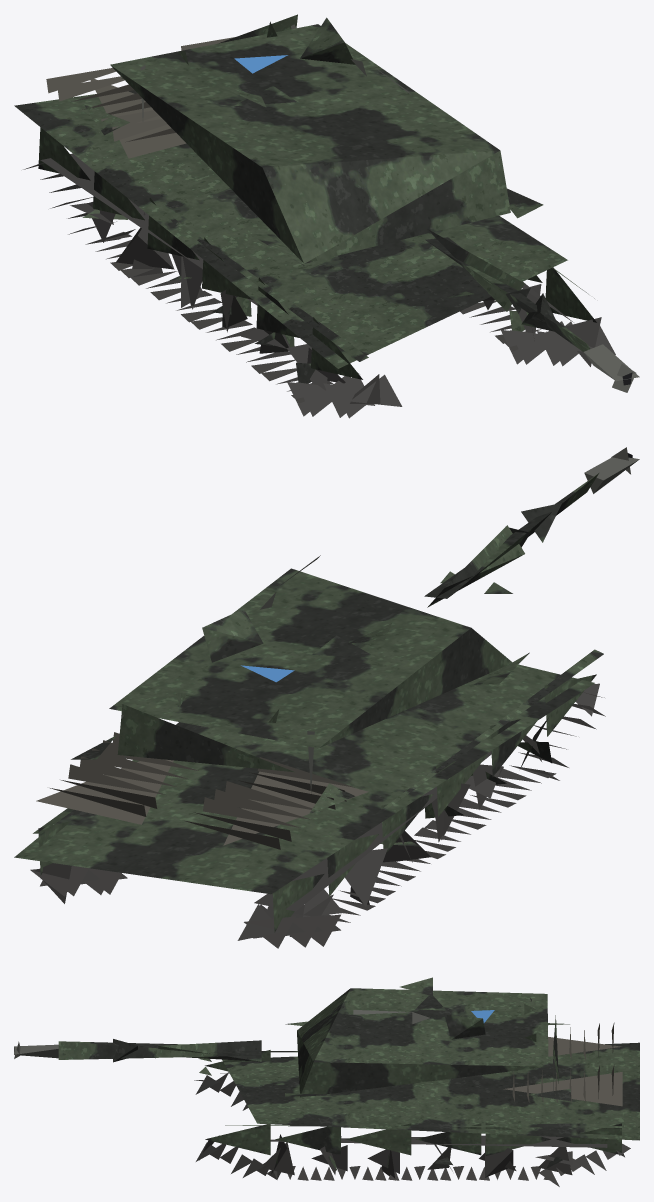
Rendered from mbt_e4_uk_challenger2_LOD2.glb.
3 views of the same model, one above another, from view 1: azimuth 30°, elevation 25°; view 2: azimuth 150°, elevation 25°; view 3: azimuth 270°, elevation 25° (orthographic). The views are drawn at different scales.
Visible parts, largest first — view 1: mbt_e4_uk_challenger2_LOD2_body, mbt_e4_uk_challenger2_LOD2_track, mbt_e4_uk_challenger2_LOD2_deck, mbt_e4_uk_challenger2_LOD2_gun; view 2: mbt_e4_uk_challenger2_LOD2_body, mbt_e4_uk_challenger2_LOD2_track, mbt_e4_uk_challenger2_LOD2_deck, mbt_e4_uk_challenger2_LOD2_gun; view 3: mbt_e4_uk_challenger2_LOD2_body, mbt_e4_uk_challenger2_LOD2_track, mbt_e4_uk_challenger2_LOD2_deck, mbt_e4_uk_challenger2_LOD2_gun.
Boxes of the visible parts, box(x1,y1,x2,y2) form: mbt_e4_uk_challenger2_LOD2_body: box(14, 14, 596, 383); mbt_e4_uk_challenger2_LOD2_track: box(23, 153, 615, 418); mbt_e4_uk_challenger2_LOD2_deck: box(46, 37, 235, 158); mbt_e4_uk_challenger2_LOD2_gun: box(140, 24, 639, 392); mbt_e4_uk_challenger2_LOD2_body: box(14, 473, 603, 932); mbt_e4_uk_challenger2_LOD2_track: box(30, 683, 605, 948); mbt_e4_uk_challenger2_LOD2_deck: box(36, 732, 368, 849); mbt_e4_uk_challenger2_LOD2_gun: box(121, 447, 639, 793); mbt_e4_uk_challenger2_LOD2_body: box(58, 977, 639, 1171); mbt_e4_uk_challenger2_LOD2_track: box(194, 1072, 630, 1186); mbt_e4_uk_challenger2_LOD2_deck: box(503, 1022, 622, 1106); mbt_e4_uk_challenger2_LOD2_gun: box(14, 998, 554, 1090).
Bounding box in the file's own units: 3.52 × 3.06 × 11.5.
Materials: 6 (1 with a texture image).
